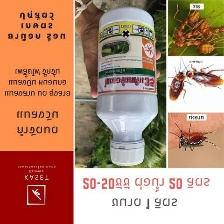insecticide: (92, 3, 160, 166)
